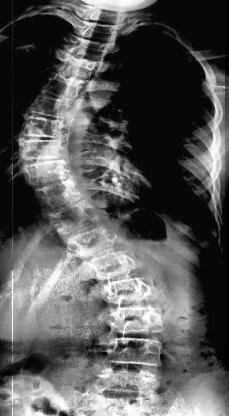Vertebrae: (108, 306, 164, 338), (36, 176, 84, 210), (87, 247, 141, 276), (98, 368, 158, 394), (68, 229, 126, 254), (54, 202, 100, 233), (106, 340, 162, 364), (21, 138, 73, 162), (110, 279, 156, 305), (57, 56, 102, 82), (19, 116, 66, 140), (24, 162, 74, 184), (48, 74, 88, 100), (31, 97, 78, 117), (80, 19, 120, 40), (68, 38, 108, 58), (90, 7, 128, 26)
